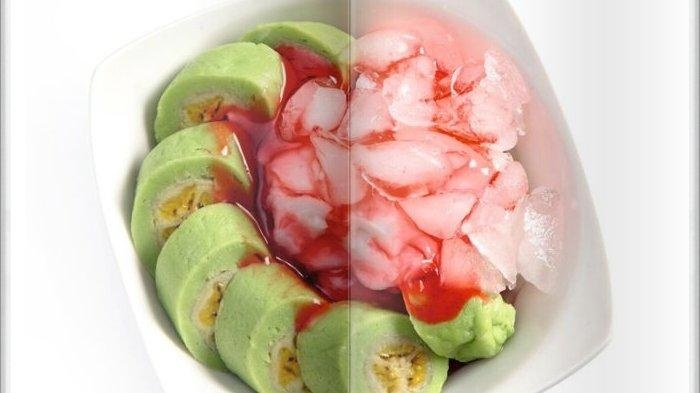es_pisang_ijo: (128, 22, 559, 391)
